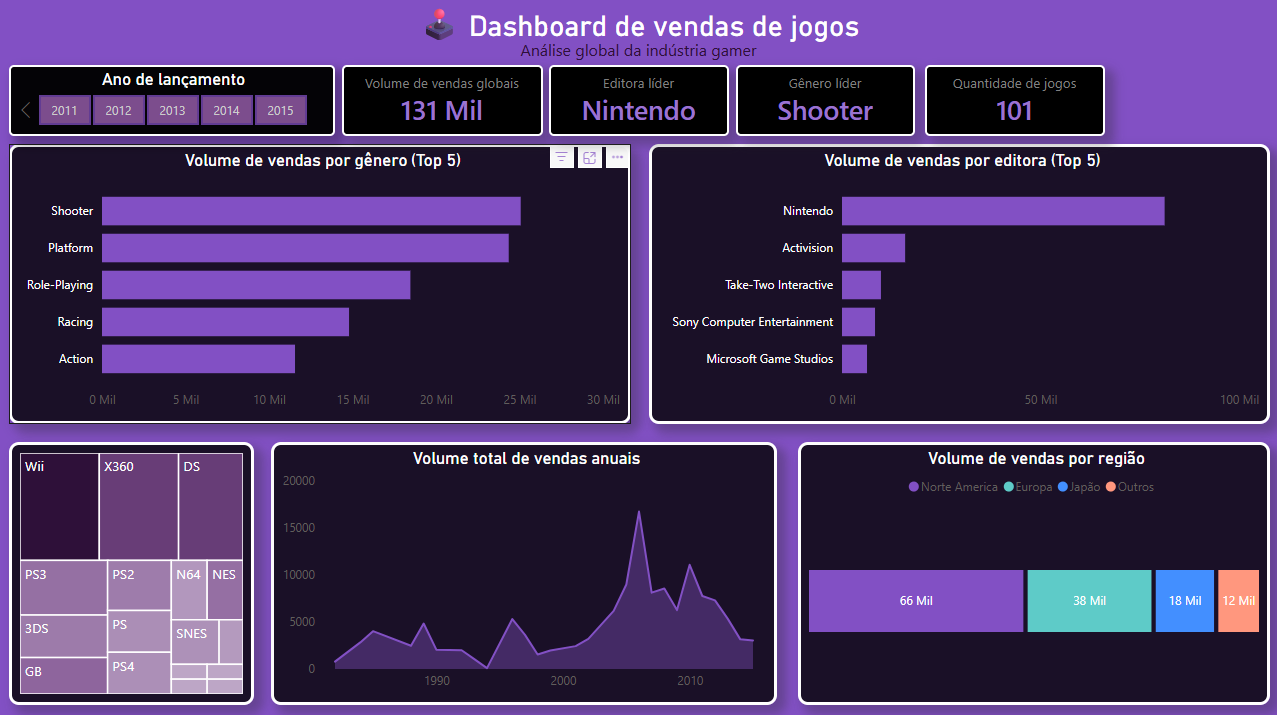

The page's visual inventory and layout, read from the dashboard file:
{"tool":"powerbi","page":{"name":"Principal","canvas":[1280,720],"ordinal":0},"visuals":[{"type":"lineChart","title":"Volume total de vendas anuais","fields":{"Y":["Sum(games_dashboard.Global_Sales)"],"Category":["games_dashboard.Year"]},"box":[272,444.4,506.3,263],"z":0},{"type":"barChart","title":"Volume de vendas por região","fields":{"Y":["Sum(games_dashboard.NA_Sales)","Sum(games_dashboard.EU_Sales)","Sum(games_dashboard.JP_Sales)","Sum(games_dashboard.Other_Sales)"]},"box":[799,444,472,263],"z":1000},{"type":"clusteredBarChart","title":"Volume de vendas por editora (Top 5)","fields":{"Y":["Sum(games_dashboard.Global_Sales)"],"Category":["games_dashboard.Publisher"]},"box":[650,146.2,621.2,279.8],"z":2000},{"type":"clusteredBarChart","title":"Volume de vendas por gênero (Top 5)","fields":{"Y":["Sum(games_dashboard.Global_Sales)"],"Category":["games_dashboard.Genre"]},"box":[9.6,146.2,622.1,279.8],"z":3000},{"type":"slicer","title":"Ano de lançamento","fields":{"Values":["games_dashboard.Year"]},"box":[9.6,67.3,326,71.2],"z":4000},{"type":"cardVisual","fields":{"Data":["Sum(games_dashboard.Global_Sales)"]},"box":[343.3,67.3,201,71.2],"z":5000},{"type":"cardVisual","fields":{"Data":["Min(games_dashboard.Publisher)"]},"box":[550,67.3,179.8,71.2],"z":6000},{"type":"cardVisual","fields":{"Data":["Min(games_dashboard.Genre)"]},"box":[736.5,67.3,179.8,71.2],"z":7000},{"type":"cardVisual","fields":{"Data":["CountNonNull(games_dashboard.Name)"]},"box":[926,67.3,179.8,71.2],"z":8000},{"type":"treemap","fields":{"Group":["games_dashboard.Platform"],"Values":["CountNonNull(games_dashboard.Platform)"]},"box":[9.9,444.4,245.1,262.1],"z":9000},{"type":"shape","title":"🕹️ Dashboard de vendas de jogos","box":[408.7,3,462.5,60.6],"z":10000}]}

Visuals, with their boxes in screenshot pixels (x1, y1, x2, y2), scaled from the page's 1280x720 canvas onto the 1277x715 screenshot:
"Volume total de vendas anuais" lineChart: [x1=271, y1=441, x2=776, y2=702]
"Volume de vendas por região" barChart: [x1=797, y1=441, x2=1268, y2=702]
"Volume de vendas por editora (Top 5)" clusteredBarChart: [x1=648, y1=145, x2=1268, y2=423]
"Volume de vendas por gênero (Top 5)" clusteredBarChart: [x1=10, y1=145, x2=630, y2=423]
"Ano de lançamento" slicer: [x1=10, y1=67, x2=335, y2=138]
cardVisual - Sum(games_dashboard.Global_Sales): [x1=342, y1=67, x2=543, y2=138]
cardVisual - Min(games_dashboard.Publisher): [x1=549, y1=67, x2=728, y2=138]
cardVisual - Min(games_dashboard.Genre): [x1=735, y1=67, x2=914, y2=138]
cardVisual - CountNonNull(games_dashboard.Name): [x1=924, y1=67, x2=1103, y2=138]
treemap - games_dashboard.Platform x CountNonNull(games_dashboard.Platform): [x1=10, y1=441, x2=254, y2=702]
"🕹️ Dashboard de vendas de jogos" shape: [x1=408, y1=3, x2=869, y2=63]
